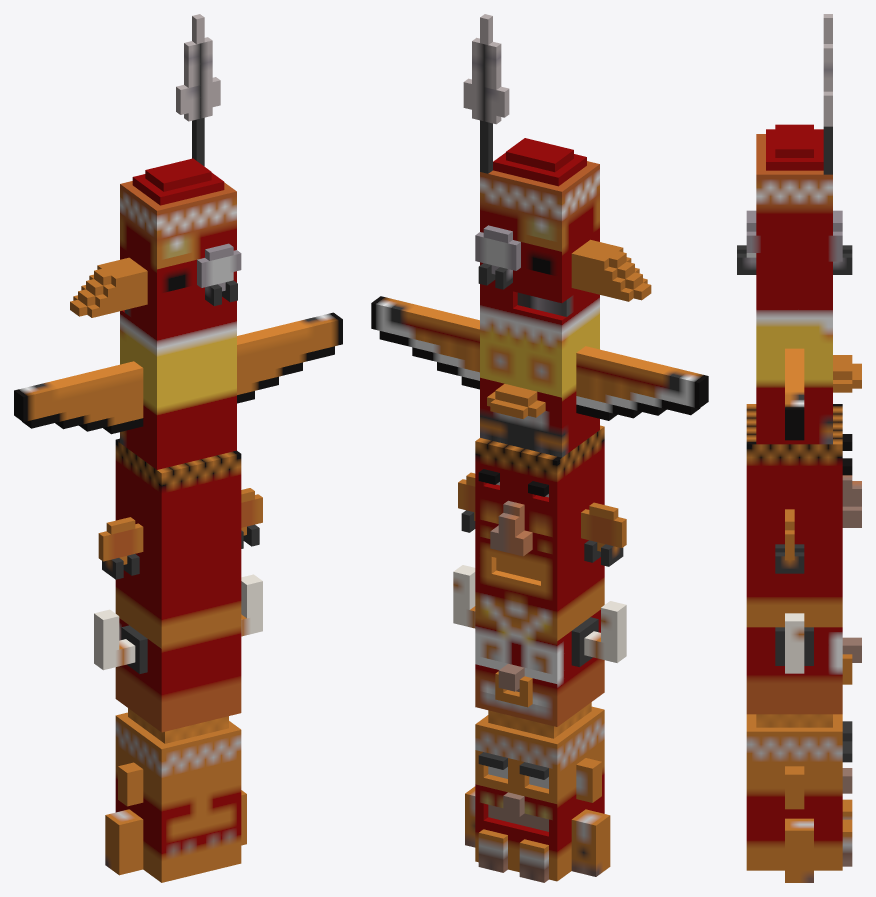
File: totem-0.obj
3 views of the same model, side by side, from view 1: azimuth 30°, elevation 25°; view 2: azimuth 150°, elevation 25°; view 3: azimuth 270°, elevation 25° (orthographic). The views are drawn at different scales.
Bounding box in the file's own units: 40 × 98 × 13.
1 material, 1 textured.
